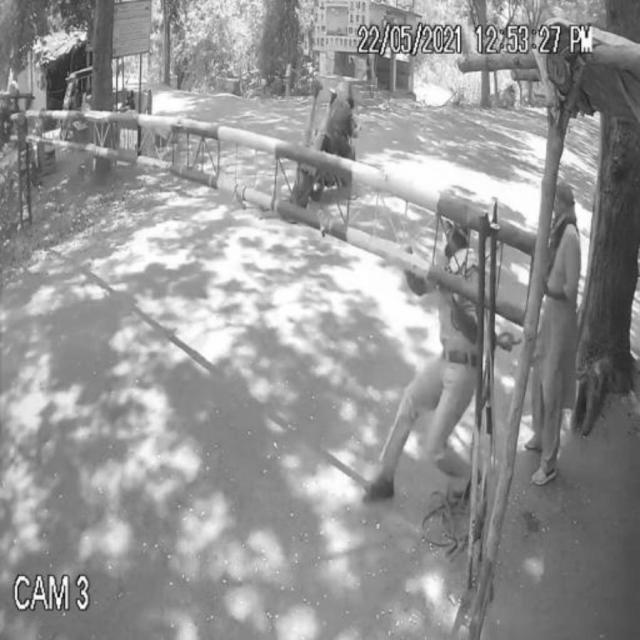person: (377, 172, 487, 512), (534, 173, 575, 493)
vehicle: (295, 67, 372, 195)
